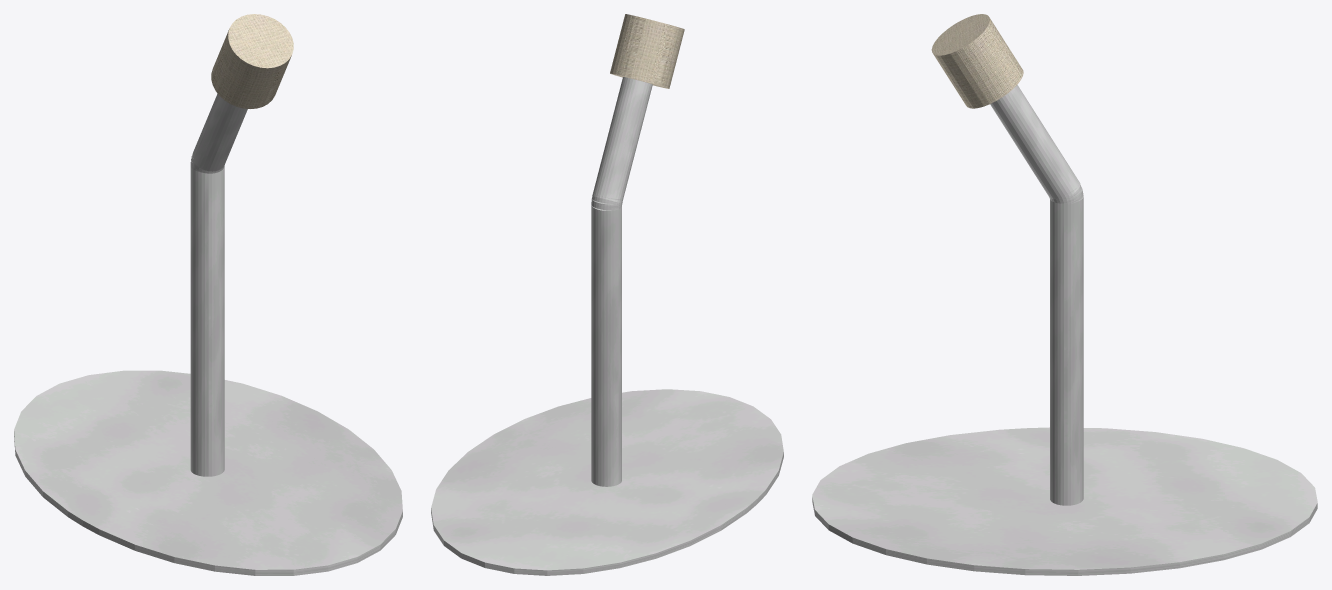
The model's file is MicModel1.fbx.
3 renders of one model, left to right at view 1: azimuth 30°, elevation 25°; view 2: azimuth 150°, elevation 25°; view 3: azimuth 270°, elevation 25°, orthographic. The views are drawn at different scales.
Parts seen in each view (by area): view 1: node_id7 (×2); view 2: node_id7 (×2); view 3: node_id7 (×2).
Boxes of the visible parts, box(x1,y1,x2,y2) form: node_id7 (×2): box(14, 14, 402, 575); node_id7 (×2): box(431, 14, 783, 575); node_id7 (×2): box(812, 14, 1317, 575).
Bounding box in the file's own units: 0.3224 × 0.512 × 0.4836.
2 materials, 2 textured.
